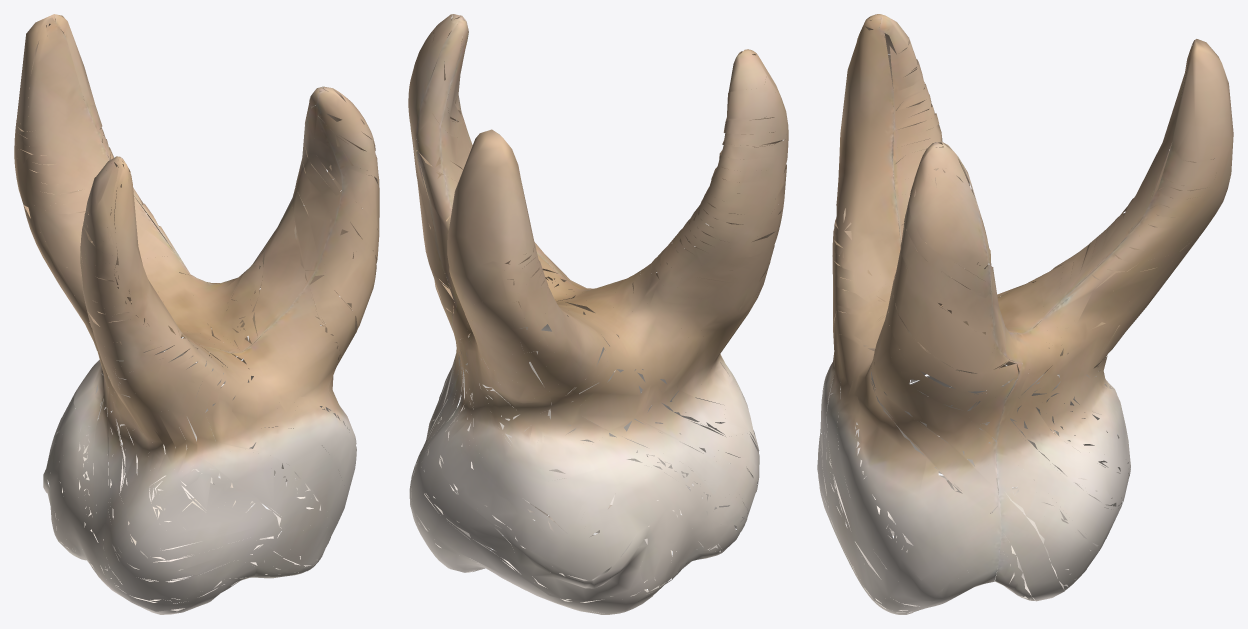
File: primary_upper_left_second_molar_fdi_65.glb
3 renders of one model, left to right at view 1: azimuth 30°, elevation 25°; view 2: azimuth 150°, elevation 25°; view 3: azimuth 270°, elevation 25°, orthographic. The views are drawn at different scales.
Visible parts, largest first — view 1: Object_3, Object_7, Object_5, Object_6, Object_4, Object_8; view 2: Object_6, Object_4, Object_5, Object_7, Object_3, Object_8; view 3: Object_5, Object_7, Object_6, Object_3, Object_4, Object_8.
Part boxes in pixels (<box>): Object_3: <box>14,17,335,604</box>; Object_7: <box>56,86,379,582</box>; Object_5: <box>43,113,379,614</box>; Object_6: <box>17,14,356,614</box>; Object_4: <box>80,86,379,601</box>; Object_8: <box>14,104,312,550</box>; Object_6: <box>423,129,756,582</box>; Object_4: <box>408,14,788,613</box>; Object_5: <box>409,39,744,600</box>; Object_7: <box>410,14,788,614</box>; Object_3: <box>409,49,782,614</box>; Object_8: <box>447,49,788,434</box>; Object_5: <box>830,169,1197,606</box>; Object_7: <box>820,16,1121,614</box>; Object_6: <box>821,39,1233,614</box>; Object_3: <box>817,14,1215,614</box>; Object_4: <box>817,26,1098,612</box>; Object_8: <box>818,14,1226,535</box>.
Bounding box in the file's own units: 5.43 × 8.23 × 5.94.
1 material, 1 textured.
